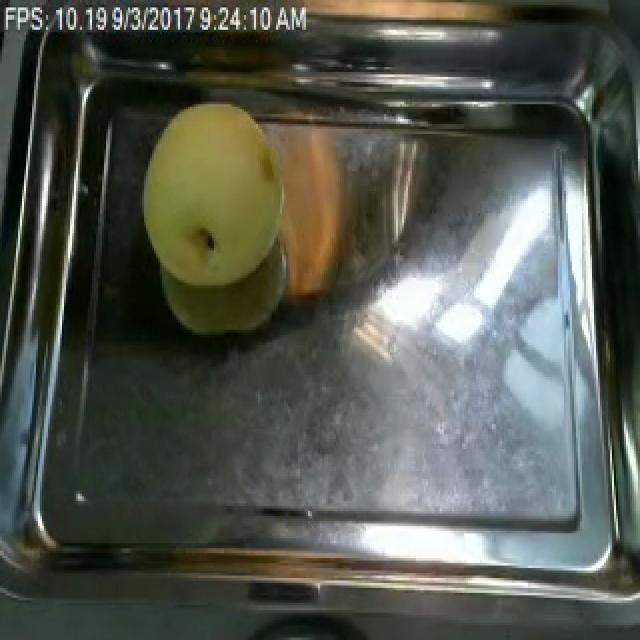Fruit: (128, 87, 304, 315)
